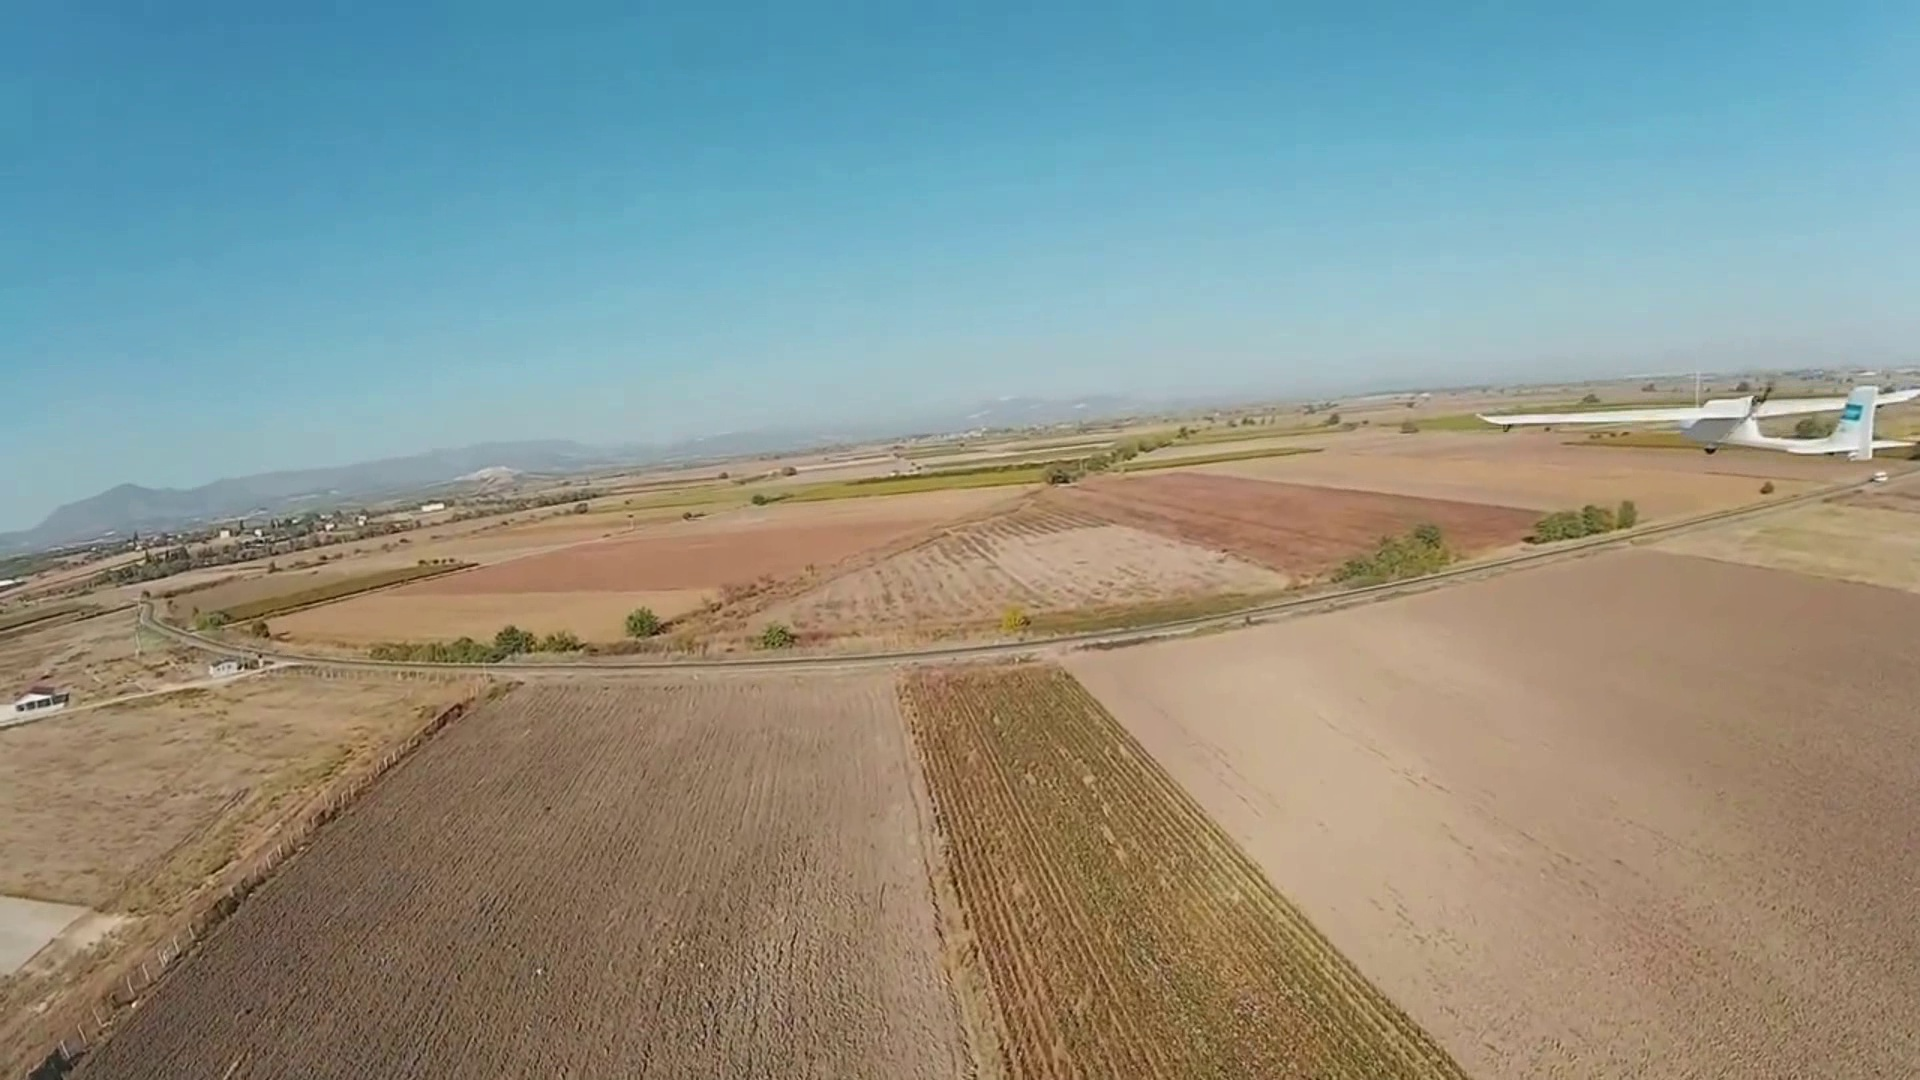airplane: (1476, 378, 1904, 469), (1679, 384, 1905, 460)
